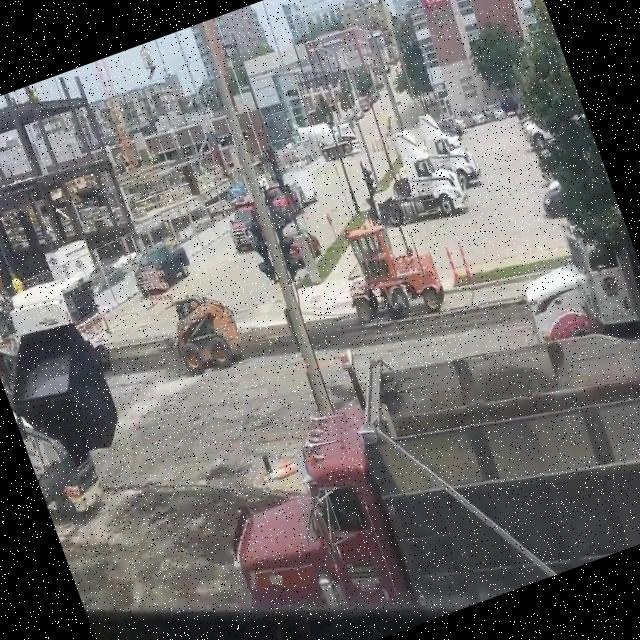Dump Truck: (181, 261, 640, 640), (503, 206, 640, 431)
Loader: (156, 280, 249, 382)
Roller: (328, 206, 450, 338)
